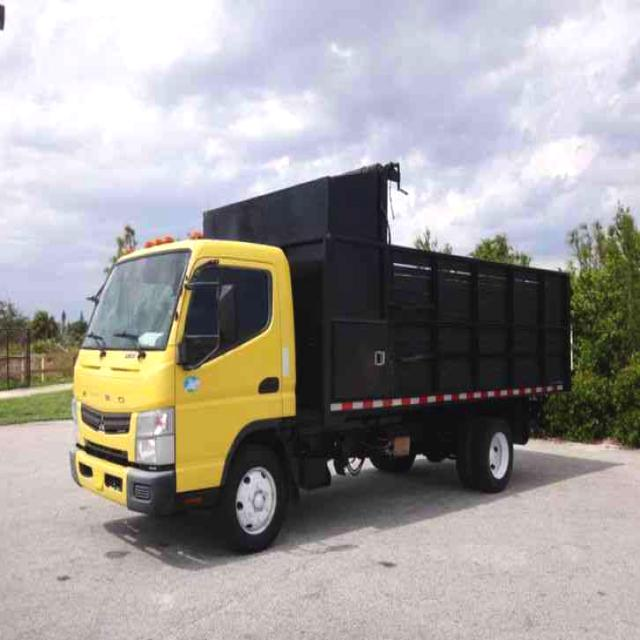truck: (72, 239, 570, 553)
